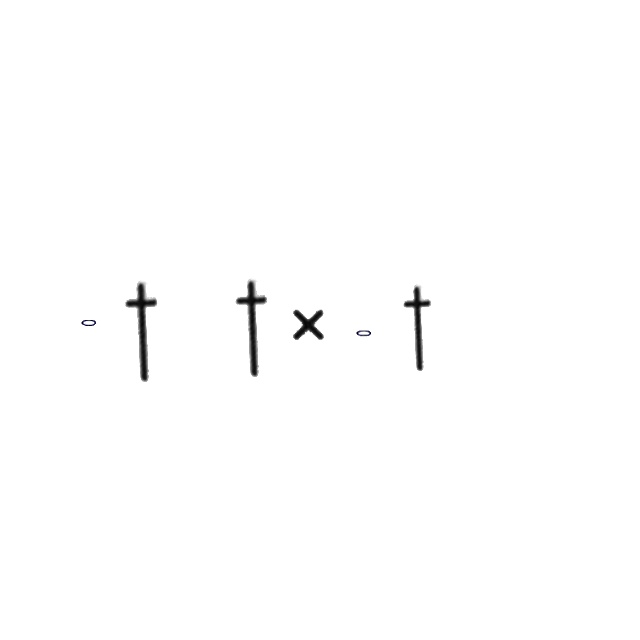double: (114, 280, 174, 384), (224, 278, 284, 380), (393, 284, 445, 374)
slip_stitch: (290, 304, 328, 344)
treble: (80, 316, 98, 330), (355, 327, 373, 339)
